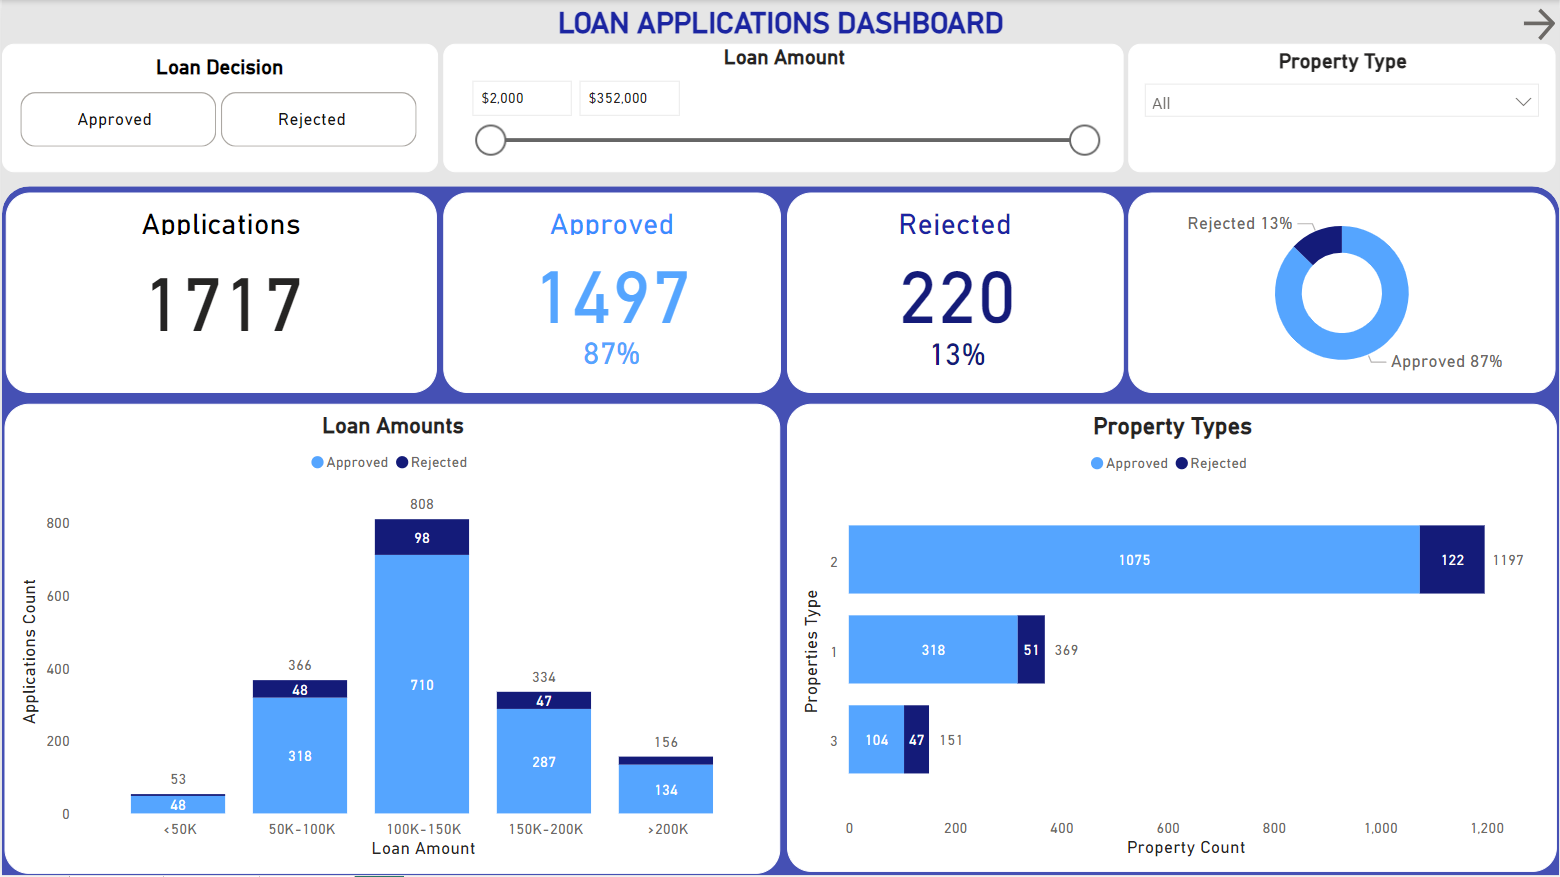

This screenshot's page, from the dashboard's own definition file:
{"tool":"powerbi","page":{"name":"Page 1","canvas":[1280,720],"ordinal":0},"visuals":[{"type":"shape","box":[0,153.5,1280.2,566.3],"z":0},{"type":"textbox","box":[3.5,158.1,354.7,165.1],"z":1000},{"type":"textbox","box":[362.8,158.1,277.9,165.1],"z":2000},{"type":"textbox","box":[645.4,158.1,276.7,165.1],"z":3000},{"type":"textbox","box":[0,36,358.1,105.8],"z":4000},{"type":"card","title":"Applications:","fields":{"Values":["CountNonNull(loan_applications_BI.loan_decision)"]},"box":[38.4,193,286,97.7],"z":5000},{"type":"donutChart","fields":{"Y":["CountNonNull(loan_applications_BI.decision_label)"],"Category":["loan_applications_BI.decision_label"]},"box":[925.6,158.1,351.2,165.1],"z":6000},{"type":"barChart","title":"Property Types","fields":{"Category":["loan_applications_BI.property_type"],"Y":["CountNonNull(loan_applications_BI.property_type)"],"Series":["loan_applications_BI.decision_label"]},"box":[645.4,331.4,632.6,384.9],"z":7000},{"type":"columnChart","title":"Loan Amounts","fields":{"Category":["loan_range_order.loan_range"],"Y":["CountNonNull(loan_applications_BI.loan_range)"],"Series":["loan_applications_BI.decision_label"]},"box":[2.3,331.4,637.2,386],"z":8000},{"type":"advancedSlicerVisual","title":"Loan Decision:","fields":{"Values":["loan_applications_BI.decision_label"]},"box":[3.5,64,350,69.8],"z":9000},{"type":"card","fields":{"Values":["loan_applications_BI.decision_approve"]},"box":[417.4,193,167.4,86],"z":10000},{"type":"card","fields":{"Values":["loan_applications_BI.decision_reject"]},"box":[691.9,193,187.2,86],"z":11000},{"type":"slicer","title":"Loan Amount","fields":{"Values":["loan_applications_BI.loan_amount_thousand"]},"box":[362.8,36,559.3,105.8],"z":12000},{"type":"card","fields":{"Values":["loan_applications_BI.approve_percentage"]},"box":[418.6,266.3,166.3,46.5],"z":13000},{"type":"card","fields":{"Values":["loan_applications_BI.reject_percentage"]},"box":[727.9,266.3,115.1,47.7],"z":14000},{"type":"slicer","title":"Property Type","fields":{"Values":["loan_applications_BI.property_type"]},"box":[925.6,36,351.2,105.8],"z":15000},{"type":"textbox","box":[0,0,1280.2,46.5],"z":16000},{"type":"actionButton","box":[1244.9,0,35.4,40.1],"z":17000}]}

Visuals, with their boxes in screenshot pixels (x1, y1, x2, y2), scaled from the page's 1280x720 canvas onto the 1560x877 screenshot:
shape: 0 187 1559 876
textbox: 4 193 437 394
textbox: 442 193 781 394
textbox: 787 193 1124 394
textbox: 0 44 436 173
"Applications:" card: 47 235 395 354
donutChart - CountNonNull(loan_applications_BI.decision_label) x loan_applications_BI.decision_label: 1128 193 1556 394
"Property Types" barChart: 787 404 1558 872
"Loan Amounts" columnChart: 3 404 779 874
"Loan Decision:" advancedSlicerVisual: 4 78 431 163
card - loan_applications_BI.decision_approve: 509 235 713 340
card - loan_applications_BI.decision_reject: 843 235 1071 340
"Loan Amount" slicer: 442 44 1124 173
card - loan_applications_BI.approve_percentage: 510 324 713 381
card - loan_applications_BI.reject_percentage: 887 324 1027 382
"Property Type" slicer: 1128 44 1556 173
textbox: 0 0 1559 57
actionButton: 1517 0 1559 49
